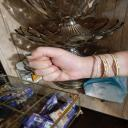Fist: (24, 44, 86, 88)
